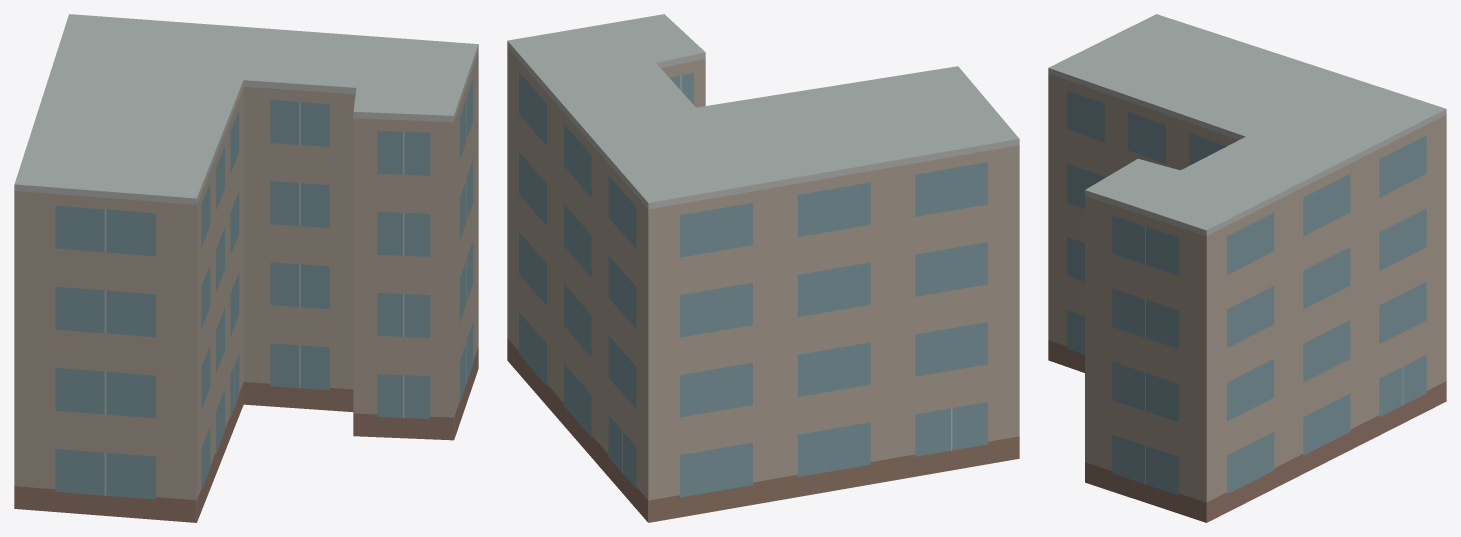
The model's file is survey-upis-32864880.glb.
3 renders of one model, left to right at view 1: azimuth 30°, elevation 25°; view 2: azimuth 150°, elevation 25°; view 3: azimuth 270°, elevation 25°, orthographic. The views are drawn at different scales.
Visible parts, largest first — view 1: survey-upis-32864880.tmp; view 2: survey-upis-32864880.tmp; view 3: survey-upis-32864880.tmp.
Part boxes in pixels (bbox=[...]): survey-upis-32864880.tmp: bbox=[14, 14, 478, 522]; survey-upis-32864880.tmp: bbox=[507, 14, 1019, 522]; survey-upis-32864880.tmp: bbox=[1048, 14, 1446, 522].
Bounding box in the file's own units: 19.53 × 12.3 × 15.19.
